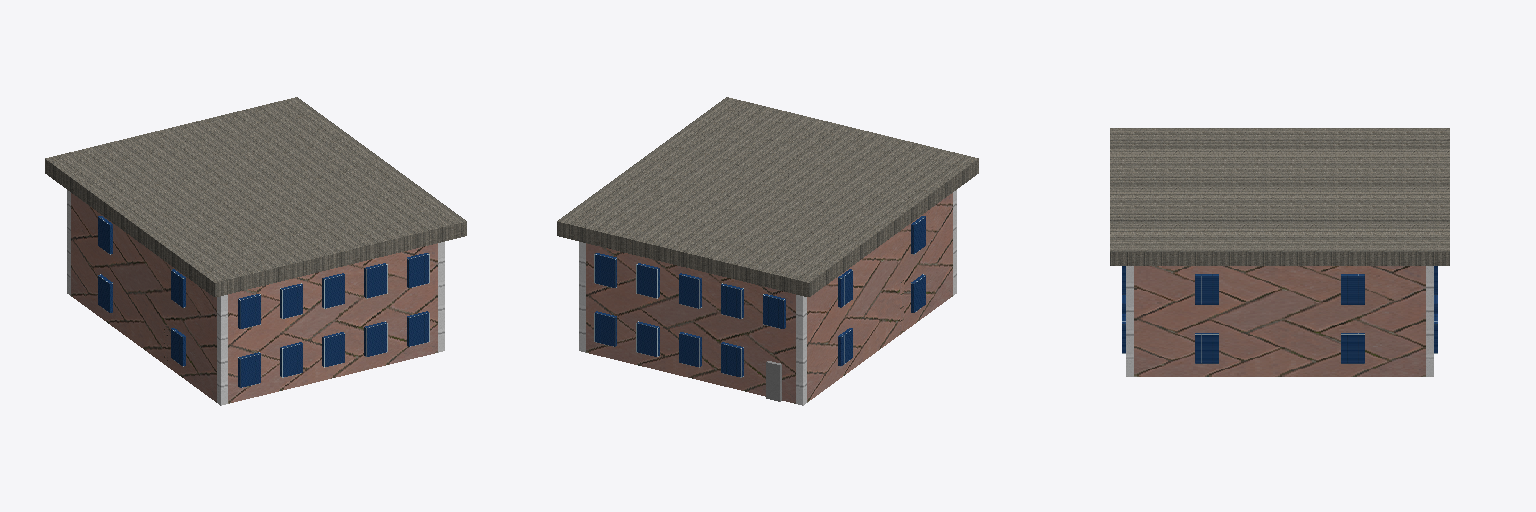
3 renders of one model, left to right at view 1: azimuth 30°, elevation 25°; view 2: azimuth 150°, elevation 25°; view 3: azimuth 270°, elevation 25°, orthographic.
Visible parts, largest first — view 1: texture purpur_pillar.tga, texture red_nether_bricks.tga, texture daylight_detector_top.tga, texture lime_terracotta.tga; view 2: texture purpur_pillar.tga, texture red_nether_bricks.tga, texture daylight_detector_top.tga, texture lime_terracotta.tga, texture light_gray_terracotta.tga; view 3: texture purpur_pillar.tga, texture red_nether_bricks.tga, texture daylight_detector_top.tga, texture lime_terracotta.tga.
Boxes of the visible parts, box(x1,y1,x2,y2) form: texture purpur_pillar.tga: box(45, 97, 466, 296); texture red_nether_bricks.tga: box(71, 193, 437, 403); texture daylight_detector_top.tga: box(98, 216, 429, 387); texture lime_terracotta.tga: box(67, 190, 444, 405); texture purpur_pillar.tga: box(557, 97, 978, 296); texture red_nether_bricks.tga: box(586, 193, 952, 403); texture daylight_detector_top.tga: box(594, 216, 925, 377); texture lime_terracotta.tga: box(579, 190, 956, 405); texture light_gray_terracotta.tga: box(766, 361, 781, 401); texture purpur_pillar.tga: box(1110, 128, 1449, 265); texture red_nether_bricks.tga: box(1134, 266, 1425, 376); texture daylight_detector_top.tga: box(1122, 266, 1437, 363); texture lime_terracotta.tga: box(1126, 266, 1433, 376).
Bounding box in the file's own units: 36 × 18 × 42.
Materials: 6 (6 with a texture image).